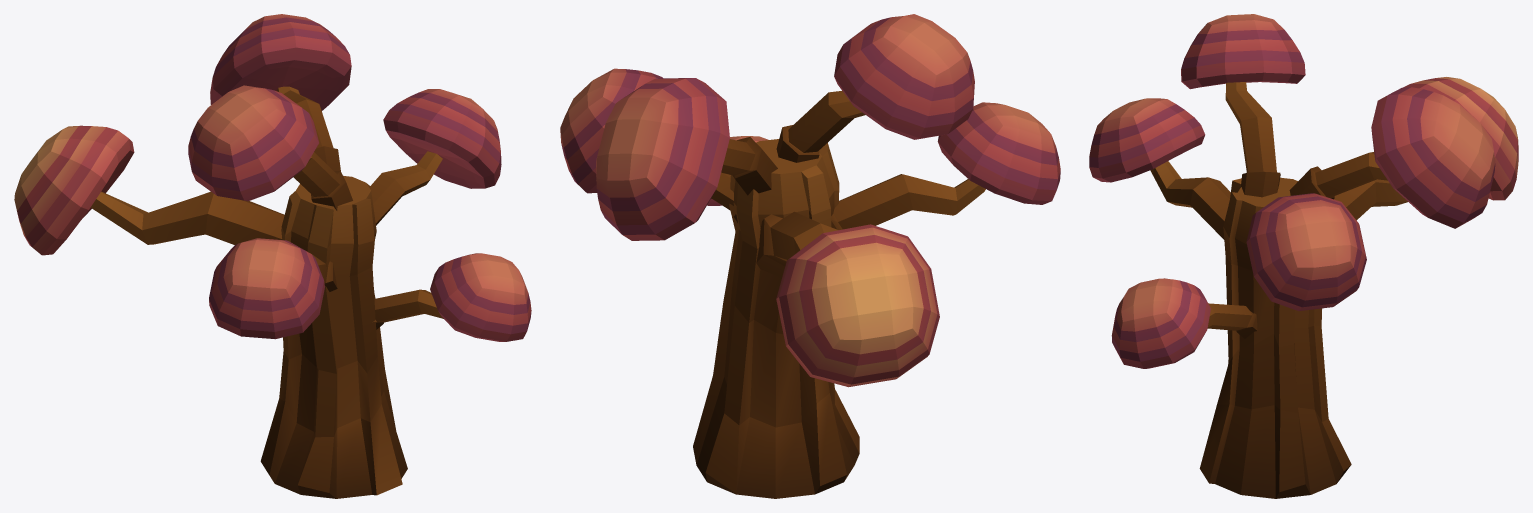
Rendered from Tree_Small_A.fbx.
3 renders of one model, left to right at view 1: azimuth 30°, elevation 25°; view 2: azimuth 150°, elevation 25°; view 3: azimuth 270°, elevation 25°, orthographic. The views are drawn at different scales.
Visible parts, largest first — view 1: Tree_Small_A; view 2: Tree_Small_A; view 3: Tree_Small_A.
Part boxes in pixels (x1,y1,x2,y2): Tree_Small_A: (14, 14, 531, 498); Tree_Small_A: (560, 14, 1060, 498); Tree_Small_A: (1089, 14, 1518, 498).
Bounding box in the file's own units: 168 × 166 × 160.
